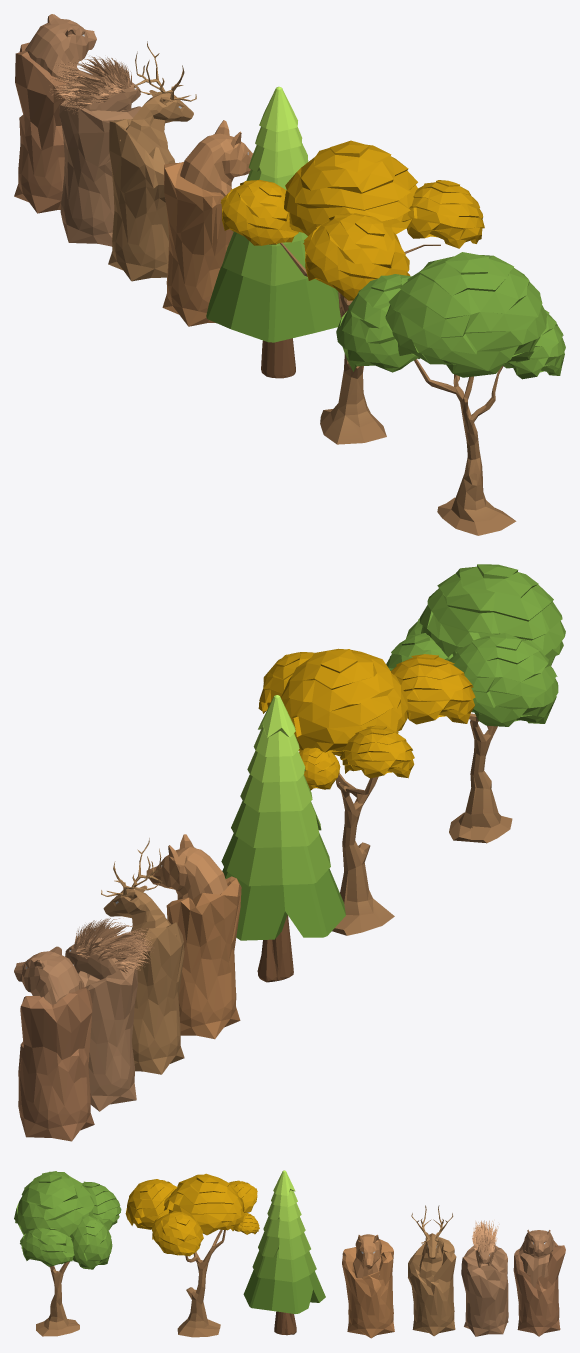
The picture shows the model from 3 angles, top to bottom: view 1: azimuth 30°, elevation 25°; view 2: azimuth 150°, elevation 25°; view 3: azimuth 270°, elevation 25°; orthographic projection. The views are drawn at different scales.
Visible parts, largest first — view 1: Cube.005, Cube.004, Cylinder, Icosphere.007, Icosphere.006, Icosphere.008, Icosphere.005; view 2: Cube.005, Cube.004, Cylinder, Icosphere.005, Icosphere.007, Icosphere.008, Icosphere.006; view 3: Cube.004, Cube.005, Cylinder, Icosphere.007, Icosphere.008, Icosphere.005, Icosphere.006.
Part boxes in pixels (left/top/right/bottom): Cube.005: left=220, top=140, right=484, bottom=444; Cube.004: left=336, top=252, right=565, bottom=535; Cylinder: left=206, top=86, right=340, bottom=378; Icosphere.007: left=162, top=120, right=252, bottom=326; Icosphere.006: left=108, top=41, right=196, bottom=281; Icosphere.008: left=49, top=56, right=141, bottom=246; Icosphere.005: left=14, top=14, right=96, bottom=213; Cube.005: left=258, top=648, right=475, bottom=935; Cube.004: left=386, top=564, right=565, bottom=843; Cylinder: left=221, top=695, right=345, bottom=982; Icosphere.005: left=14, top=946, right=94, bottom=1141; Icosphere.007: left=146, top=834, right=241, bottom=1039; Icosphere.008: left=65, top=918, right=154, bottom=1111; Icosphere.006: left=101, top=838, right=184, bottom=1074; Cube.004: left=14, top=1171, right=121, bottom=1336; Cube.005: left=125, top=1173, right=259, bottom=1337; Cylinder: left=243, top=1170, right=325, bottom=1335; Icosphere.007: left=342, top=1234, right=394, bottom=1338; Icosphere.008: left=461, top=1220, right=508, bottom=1336; Icosphere.005: left=513, top=1229, right=565, bottom=1336; Icosphere.006: left=408, top=1205, right=456, bottom=1336.
Bounding box in the file's own units: 52.89 × 17.32 × 13.41.
Materials: 2 (1 with a texture image).
